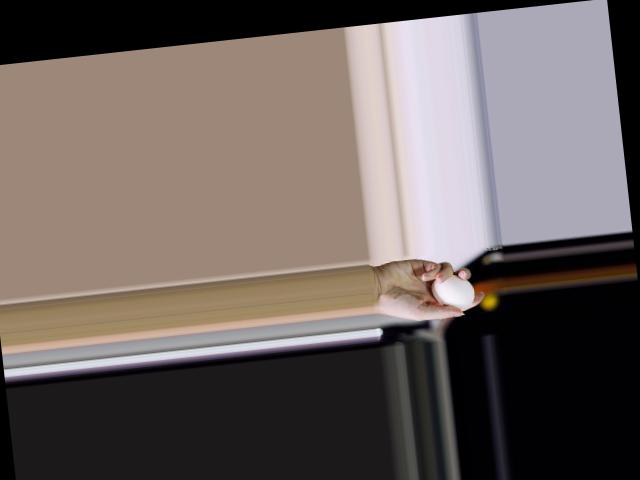egg: (431, 272, 477, 311)
